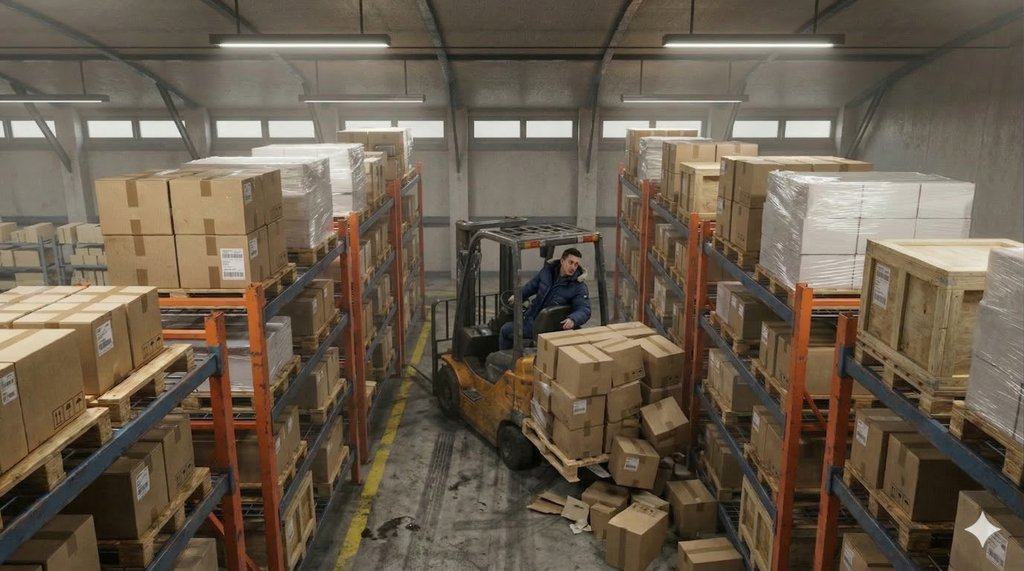forklift: (424, 202, 666, 499)
obstacle: (512, 312, 773, 565)
pallet: (833, 322, 975, 431), (4, 405, 123, 499), (91, 340, 213, 420), (522, 415, 641, 494), (131, 466, 233, 551), (935, 395, 1024, 485), (187, 261, 325, 318)
person: (478, 246, 599, 351)
